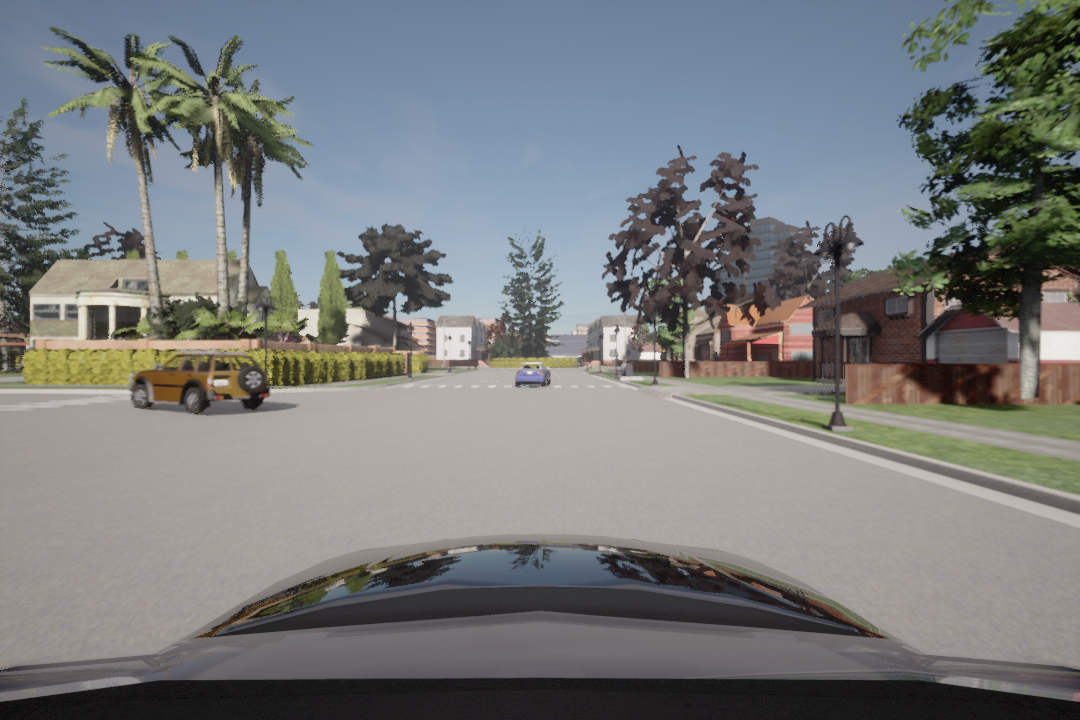walkside: (401, 381, 627, 393)
